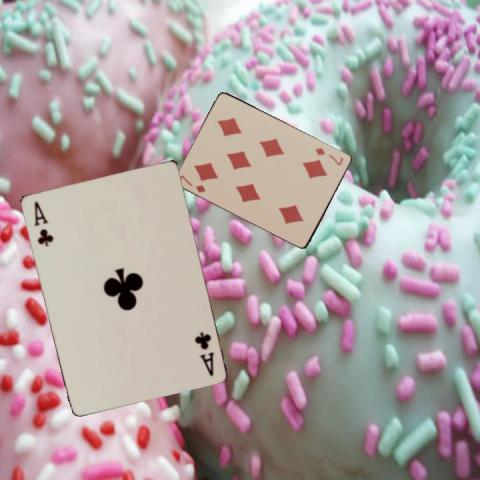7d: (176, 172, 208, 194), (312, 145, 345, 166)
Ac: (31, 198, 54, 247), (192, 329, 215, 377)
